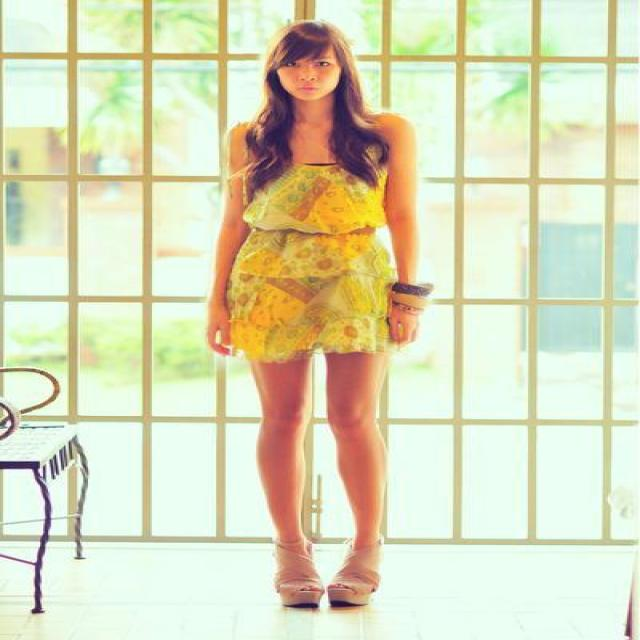dress: (232, 167, 397, 370)
shoe: (275, 560, 378, 610)
